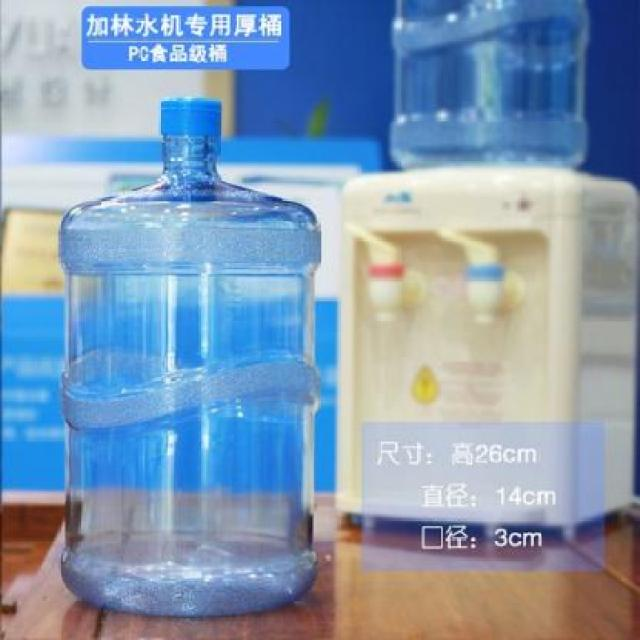coolerbottle: (55, 89, 328, 623)
